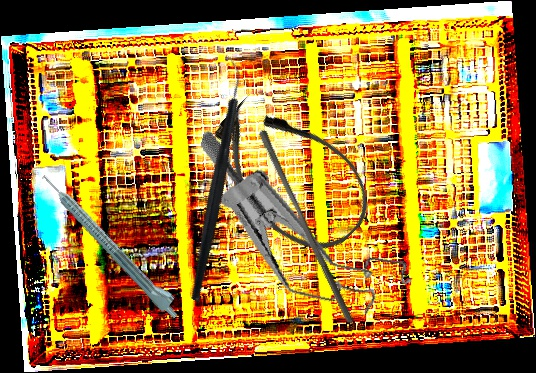Cannula: (193, 76, 388, 272)
Chopper: (110, 55, 317, 304)
Handpiece: (38, 165, 187, 323)
Pusher: (251, 128, 362, 326)
Speculum: (169, 127, 436, 326)
